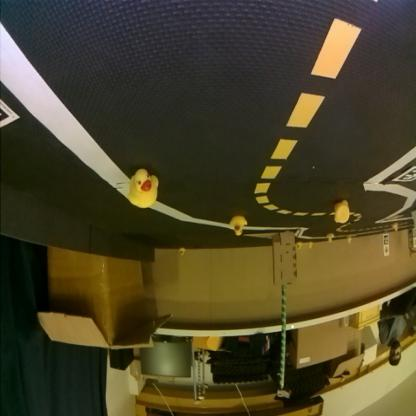Duckie: (131, 171, 159, 209), (335, 202, 349, 224), (232, 218, 248, 236), (180, 248, 186, 255), (329, 235, 335, 242), (393, 226, 399, 233), (308, 241, 313, 249), (297, 242, 302, 249), (348, 238, 352, 245)
